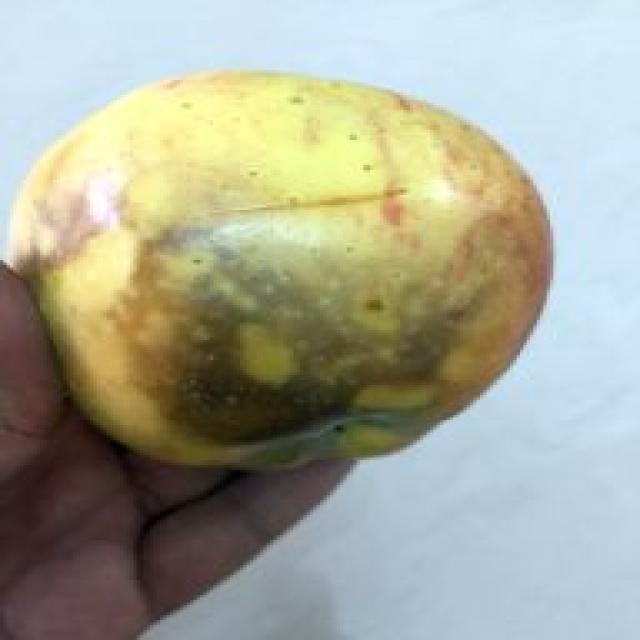Bad_Apple: (13, 71, 550, 468)
